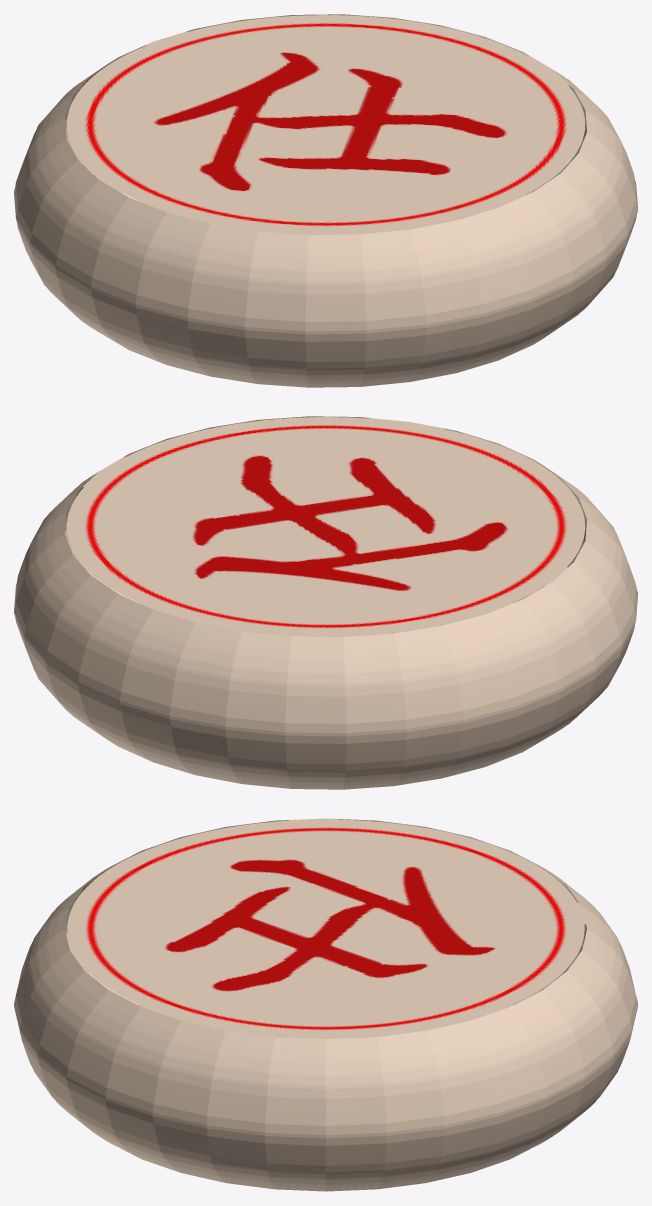
Rendered from red_guard.fbx.
The picture shows the model from 3 angles, top to bottom: view 1: azimuth 30°, elevation 25°; view 2: azimuth 150°, elevation 25°; view 3: azimuth 270°, elevation 25°; orthographic projection.
Visible parts, largest first — view 1: Red Guard; view 2: Red Guard; view 3: Red Guard.
Part boxes in pixels (x1,y1,x2,y2): Red Guard: (14,14,637,387); Red Guard: (14,416,637,789); Red Guard: (14,818,637,1191).
Size of the model in its own units: 245 by 66.11 by 245.
2 materials, 1 textured.
